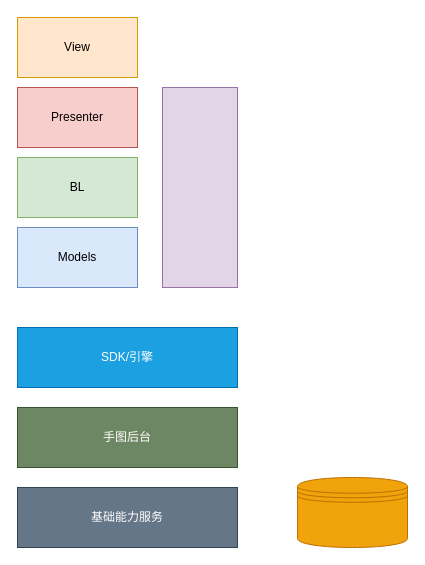
The diagram is 425 pixels wide and 565 high, and some of its shapes have lost their labels. The centre of each missing label's shape, as x and y in pixels:
"Commons" goes at (x=200, y=187).
"数据" goes at (x=352, y=512).
